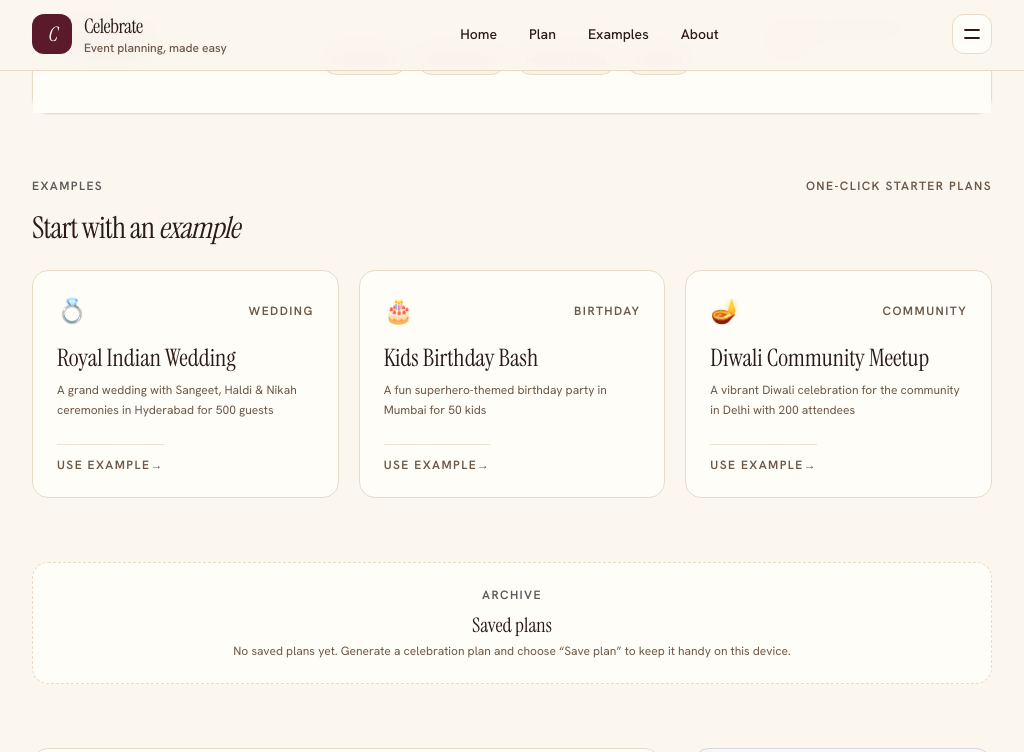
Test: EventPlanner Component Integration › loads Royal Indian Wedding example and renders countdown, palette, and play-the-day
The image size is (1024, 752).
(page scrolled)
What coordinates should you click on to do the following:
click the button "Royal Indian Wedding"
I would click on:
 (185, 384)
Its box is 32,270 -> 339,498.
(page scrolled)
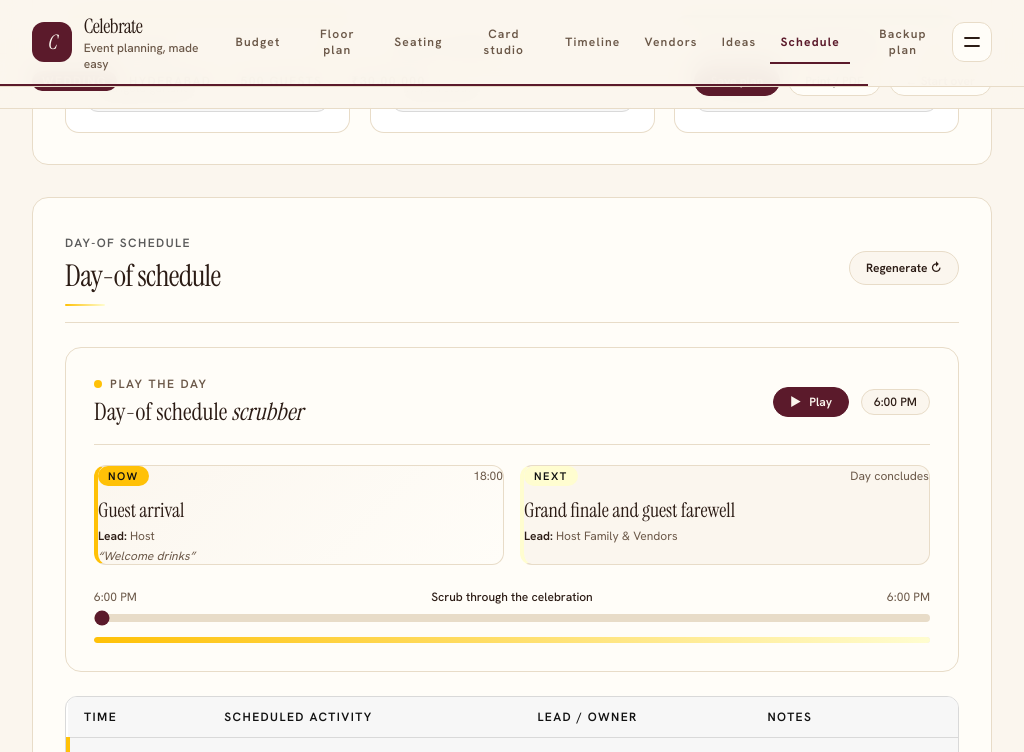
Check: the text "Play the day" is shown, box 110,376 -> 208,392
